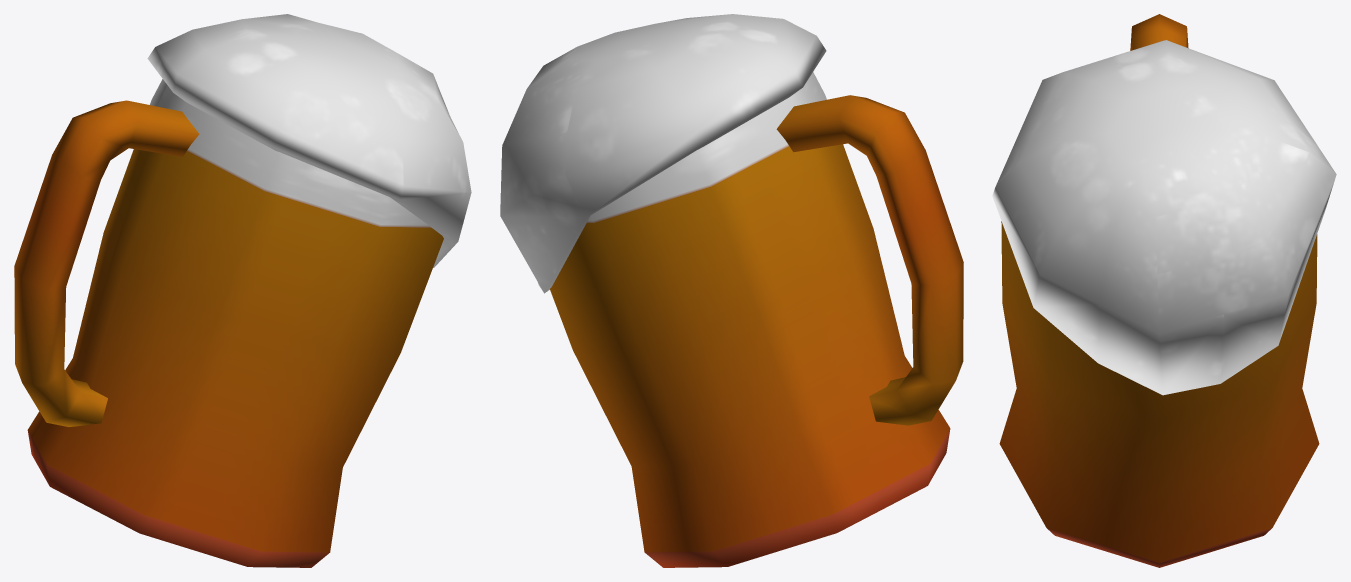
File: Balloon_BeerMug_Art.fbx
3 renders of one model, left to right at view 1: azimuth 30°, elevation 25°; view 2: azimuth 150°, elevation 25°; view 3: azimuth 270°, elevation 25°, orthographic. The views are drawn at different scales.
Parts seen in each view (by area): view 1: Oktoberfest_BeerMugBallon; view 2: Oktoberfest_BeerMugBallon; view 3: Oktoberfest_BeerMugBallon.
Part boxes in pixels (x1,y1,x2,y2): Oktoberfest_BeerMugBallon: (14, 14, 471, 567); Oktoberfest_BeerMugBallon: (500, 14, 963, 567); Oktoberfest_BeerMugBallon: (992, 14, 1336, 567).
Bounding box in the file's own units: 887 × 1003 × 637.
